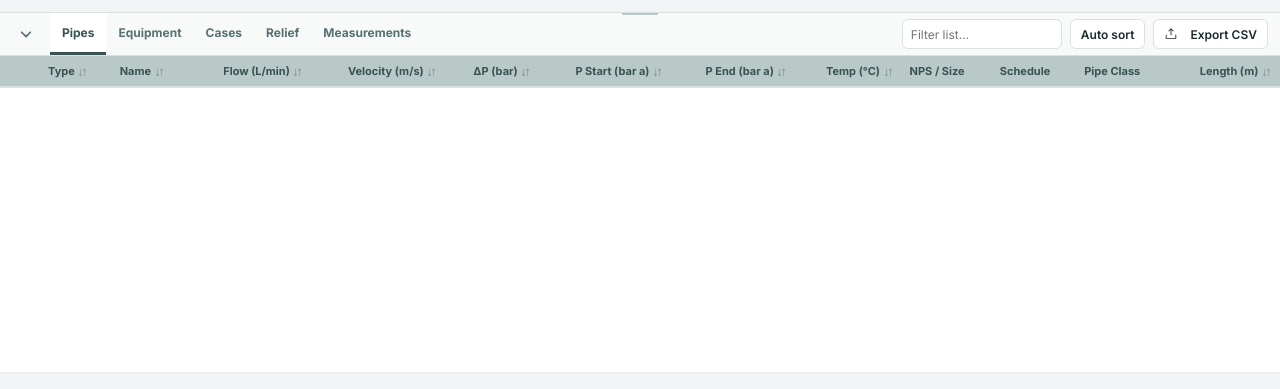
Test case: relief analysis matrix › shows the peak at the governing opening and the device result
Click the button "Relief".
click(283, 34)  # box [254,13,311,55]
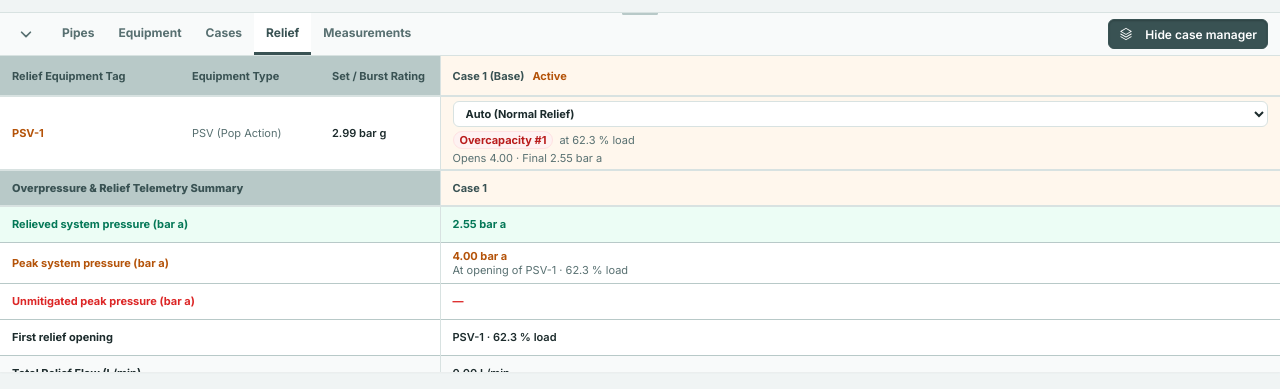
Now the text "At opening of PSV-1 · 62.3 % load" is shown, box [452,262,628,276]
Now the text "PSV-1 · 62.3 % load" is shown, box [440,319,1279,355]
Now the text "Overcapacity #1" is shown, box [452,131,553,149]
